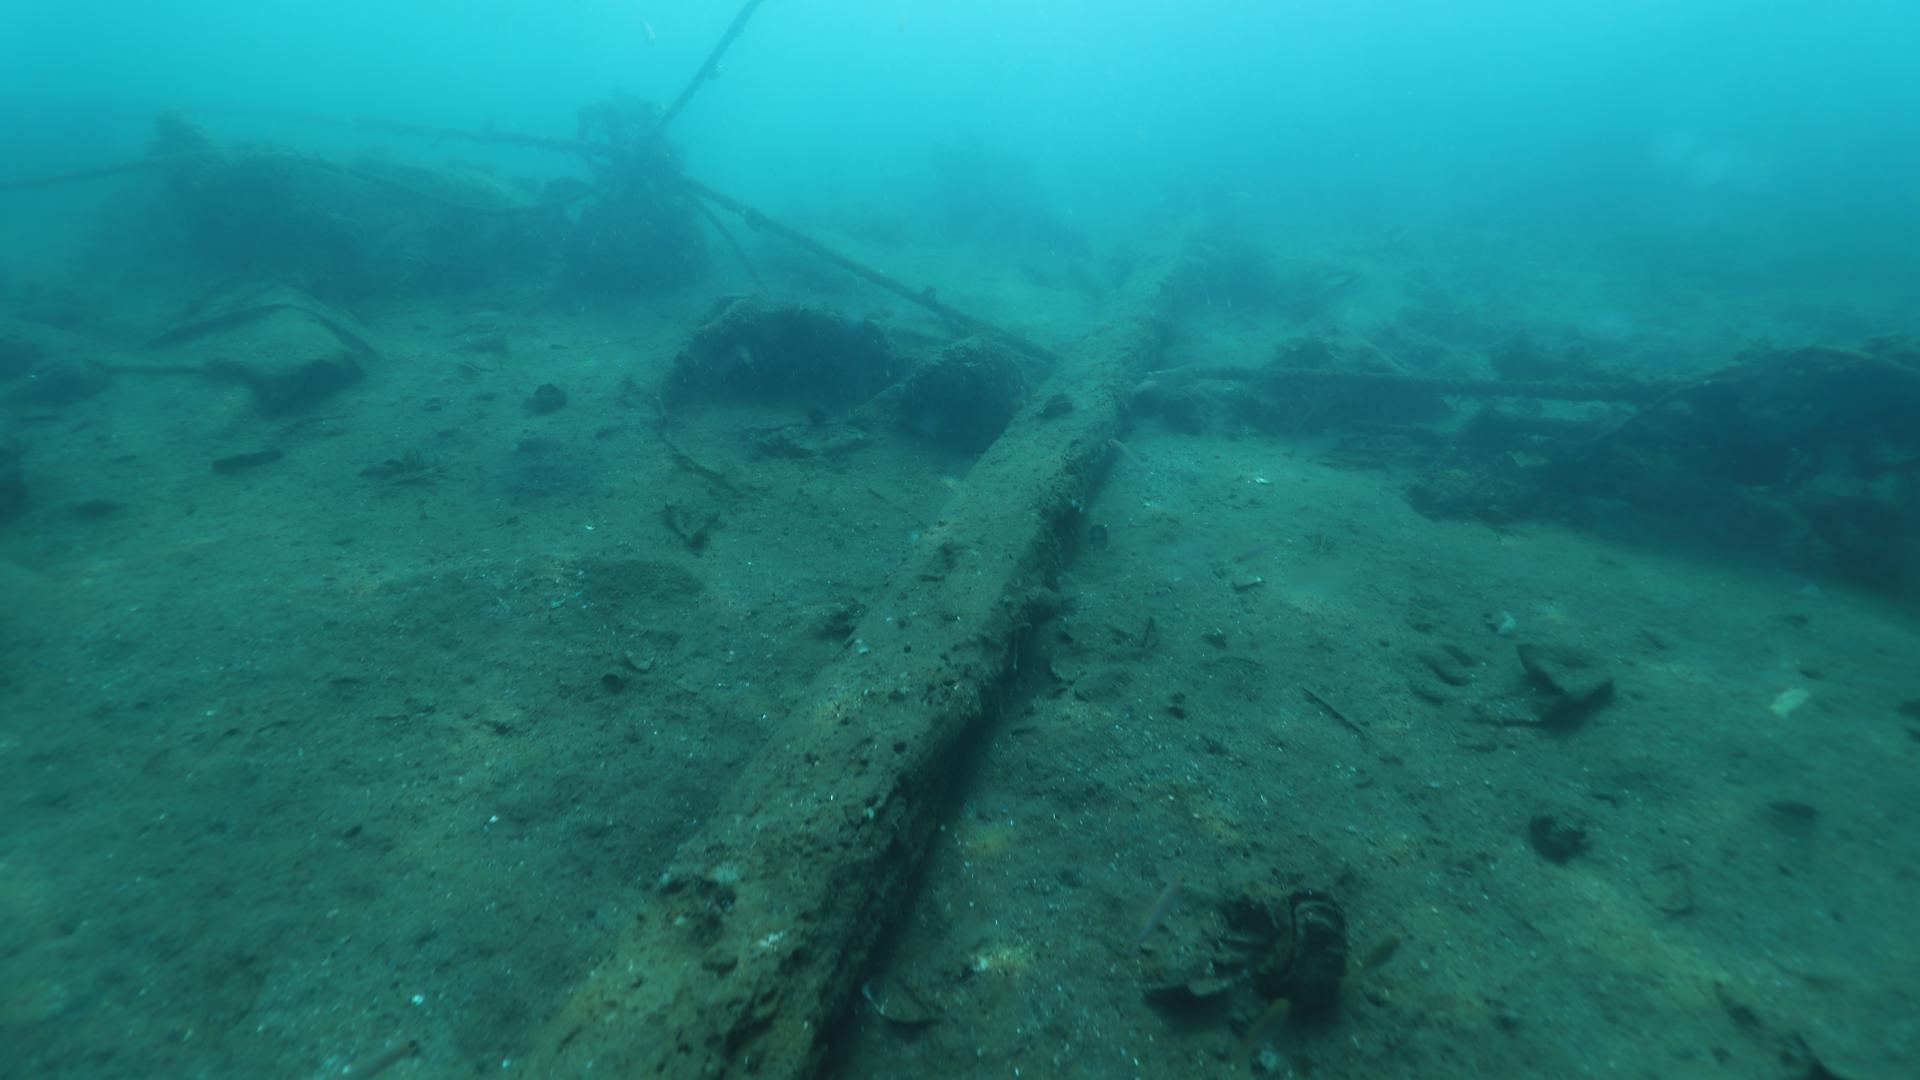wood: (549, 232, 1204, 1080)
